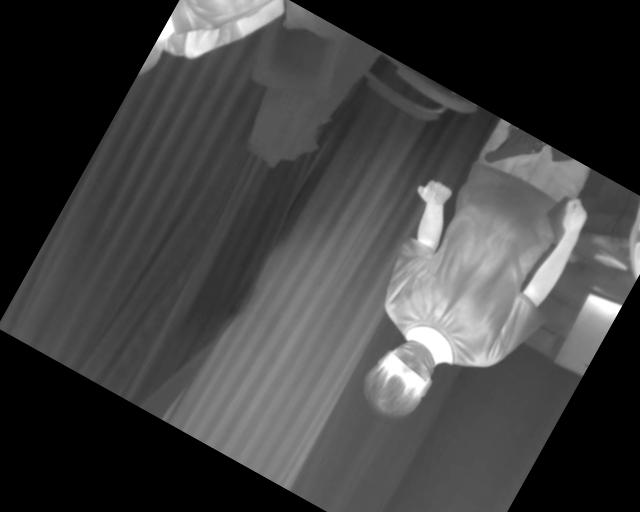face: (353, 326, 448, 429)
